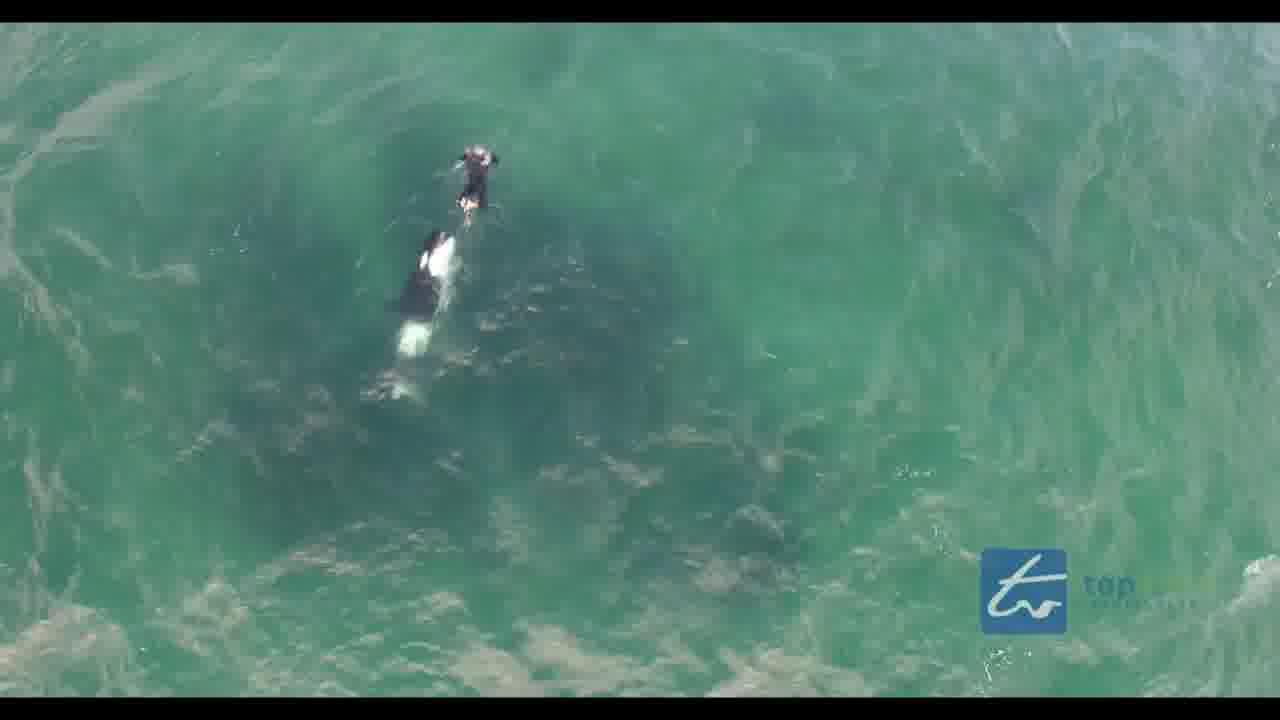human: (456, 140, 497, 213)
